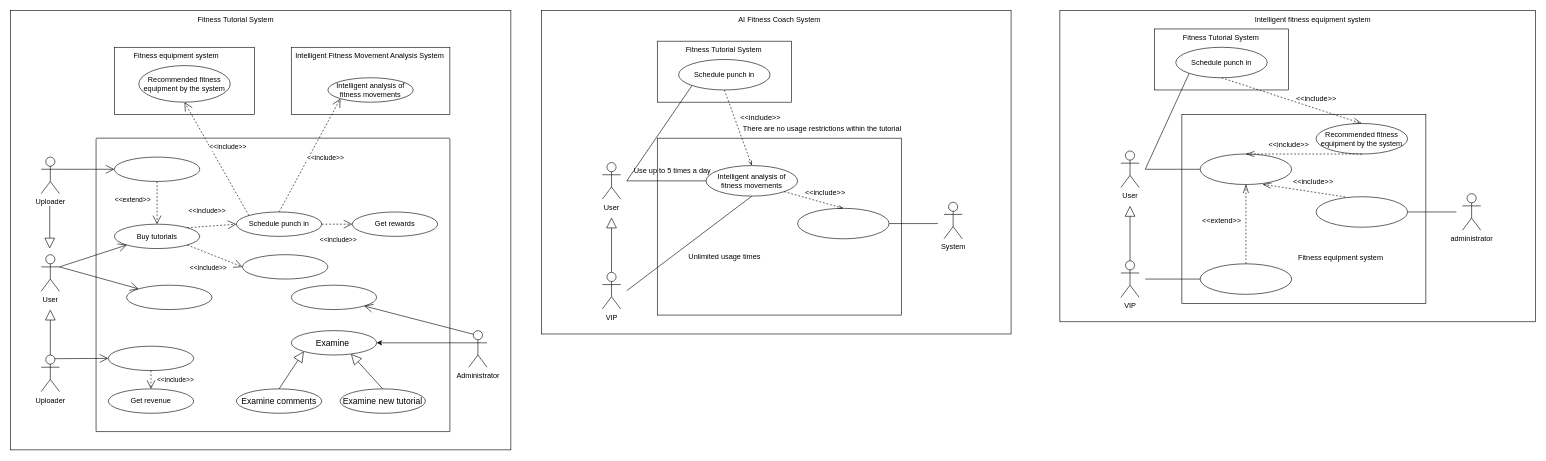
The diagram is 1546 pixels wide and 461 high, and some of its shapes have lost their labels. Each missing label, with the centre of its shape:
Announce: point (334, 297)
Browse the tutorial: point (169, 297)
Fitness equipment AI intelligent Q&A: point (1246, 278)
Get discount: point (157, 168)
Manage fitness equipment information: point (1361, 211)
Quit tutorials: point (285, 266)
Release tutorial: point (151, 358)
Review the legality of the content: point (843, 223)
View the basic usage of fitness equipment: point (1246, 169)
